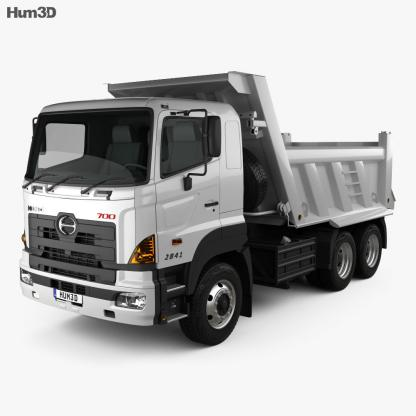dump_truck: (17, 59, 416, 345)
